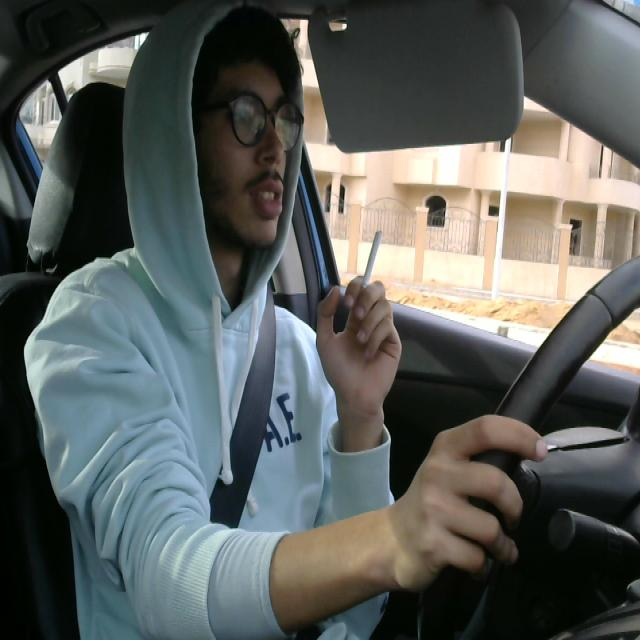smoking: (349, 226, 387, 322)
